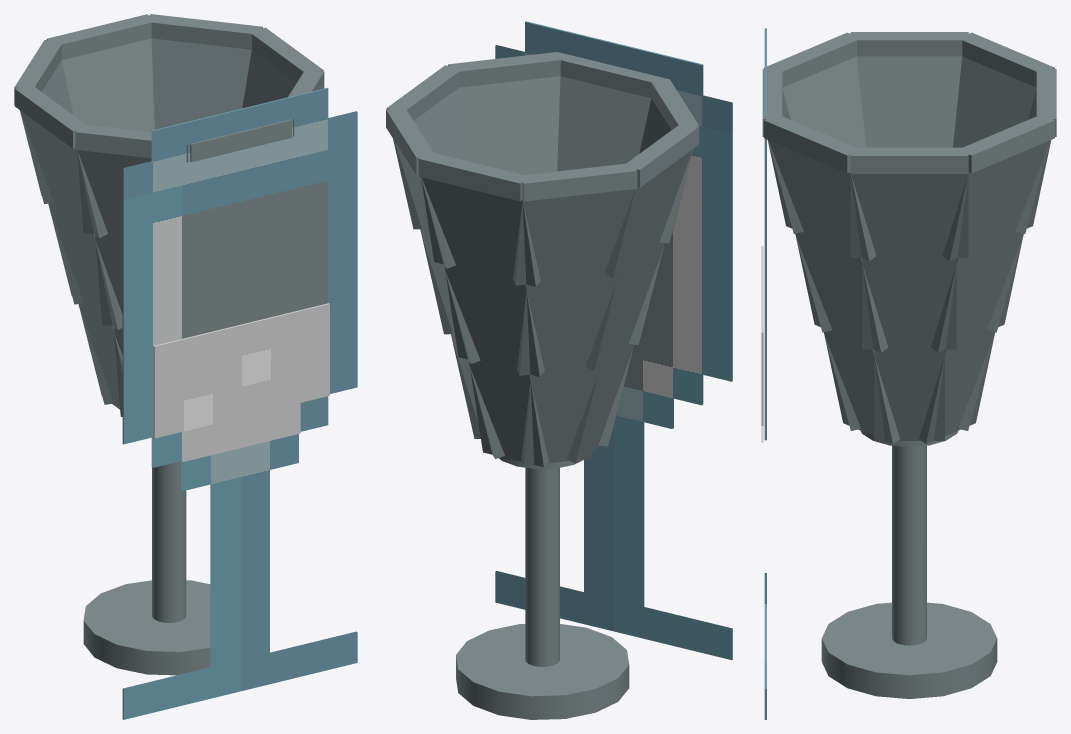
Rendered from CMU3DDrinkSakeGlass.glb.
3 views of the same model, side by side, from view 1: azimuth 30°, elevation 25°; view 2: azimuth 150°, elevation 25°; view 3: azimuth 270°, elevation 25° (orthographic).
Parts seen in each view (by area): view 1: base original source artwork, fill original source artwork, circular glass foot, hollow wall tier 3 facet 2, hollow wall tier 3 facet 3, glass stem, hollow wall tier 3 facet 5, hollow wall tier 2 facet 5, hollow wall tier 3 facet 6, open rim facet 2, open rim facet 3, open rim facet 5 (+11 smaller); view 2: base original source artwork, circular glass foot, hollow wall tier 3 facet 4, hollow wall tier 3 facet 8, hollow wall tier 3 facet 3, hollow wall tier 2 facet 4, hollow wall tier 3 facet 7, glass stem, hollow wall tier 2 facet 3, hollow wall tier 1 facet 4, hollow wall tier 1 facet 3, hollow wall tier 3 facet 5 (+17 smaller); view 3: circular glass foot, hollow wall tier 3 facet 5, hollow wall tier 3 facet 1, hollow wall tier 2 facet 1, glass stem, hollow wall tier 3 facet 2, hollow wall tier 3 facet 8, hollow wall tier 2 facet 2, hollow wall tier 2 facet 8, hollow wall tier 1 facet 1, hollow wall tier 3 facet 6, hollow wall tier 3 facet 4 (+18 smaller).
Boxes of the visible parts, x1,y1,x2,y2 form: base original source artwork: [122, 88, 357, 719]; fill original source artwork: [153, 303, 329, 461]; circular glass foot: [83, 580, 210, 675]; hollow wall tier 3 facet 2: [151, 38, 251, 129]; hollow wall tier 3 facet 3: [61, 38, 154, 132]; glass stem: [152, 461, 186, 622]; hollow wall tier 3 facet 5: [20, 110, 107, 238]; hollow wall tier 2 facet 5: [48, 203, 122, 329]; hollow wall tier 3 facet 6: [77, 150, 151, 237]; open rim facet 2: [147, 14, 262, 49]; open rim facet 3: [46, 14, 156, 59]; open rim facet 5: [14, 85, 89, 148]; base original source artwork: [495, 21, 732, 660]; circular glass foot: [456, 624, 629, 719]; hollow wall tier 3 facet 4: [513, 189, 635, 285]; hollow wall tier 3 facet 8: [459, 76, 560, 174]; hollow wall tier 3 facet 3: [421, 177, 540, 286]; hollow wall tier 2 facet 4: [517, 274, 617, 375]; hollow wall tier 3 facet 7: [557, 76, 651, 171]; glass stem: [525, 467, 559, 666]; hollow wall tier 2 facet 3: [444, 265, 544, 376]; hollow wall tier 1 facet 4: [521, 367, 598, 465]; hollow wall tier 1 facet 3: [469, 361, 548, 467]; hollow wall tier 3 facet 5: [604, 149, 692, 277]; circular glass foot: [821, 602, 997, 698]; hollow wall tier 3 facet 5: [857, 56, 962, 147]; hollow wall tier 3 facet 1: [850, 174, 968, 257]; hollow wall tier 2 facet 1: [862, 256, 956, 349]; glass stem: [892, 445, 926, 645]; hollow wall tier 3 facet 2: [942, 140, 1051, 261]; hollow wall tier 3 facet 8: [767, 140, 876, 261]; hollow wall tier 2 facet 2: [930, 232, 1023, 352]; hollow wall tier 2 facet 8: [795, 232, 888, 352]; hollow wall tier 1 facet 1: [874, 349, 944, 440]; hollow wall tier 3 facet 6: [782, 56, 865, 147]; hollow wall tier 3 facet 4: [953, 56, 1036, 147].
Size of what is drawn, in the model's own units: 0.268 by 0.5938 by 0.269.
5 materials, 2 textured.
